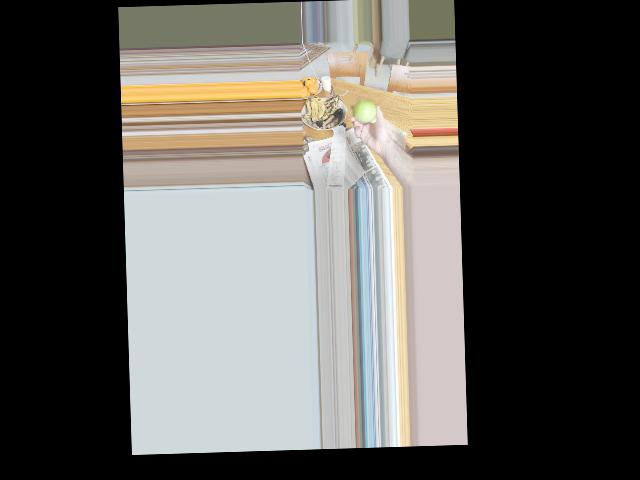apple: (353, 95, 376, 124)
